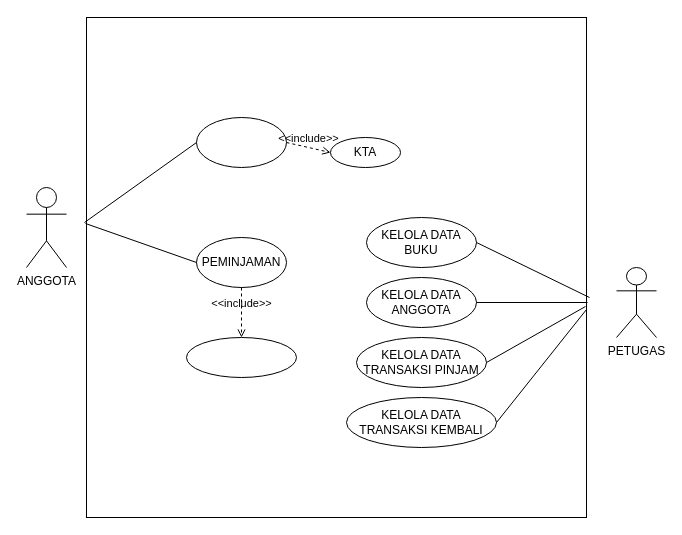
This 682x535 diagram has some shape labels left out. The shapes that lost their labels are listed below. From the top down, each one's centre as x and y in pixels, then its label:
[241,142]: DAFTAR
[241,357]: PENGEMBALIAN
